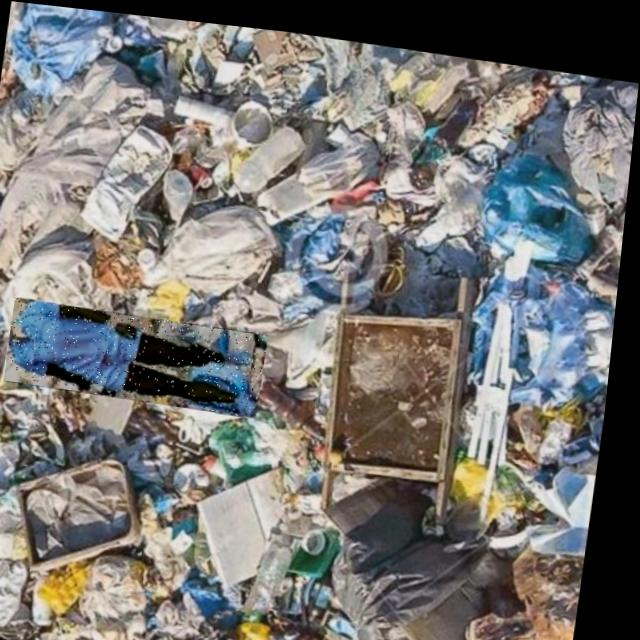Person in Rubble: (11, 295, 275, 411)
